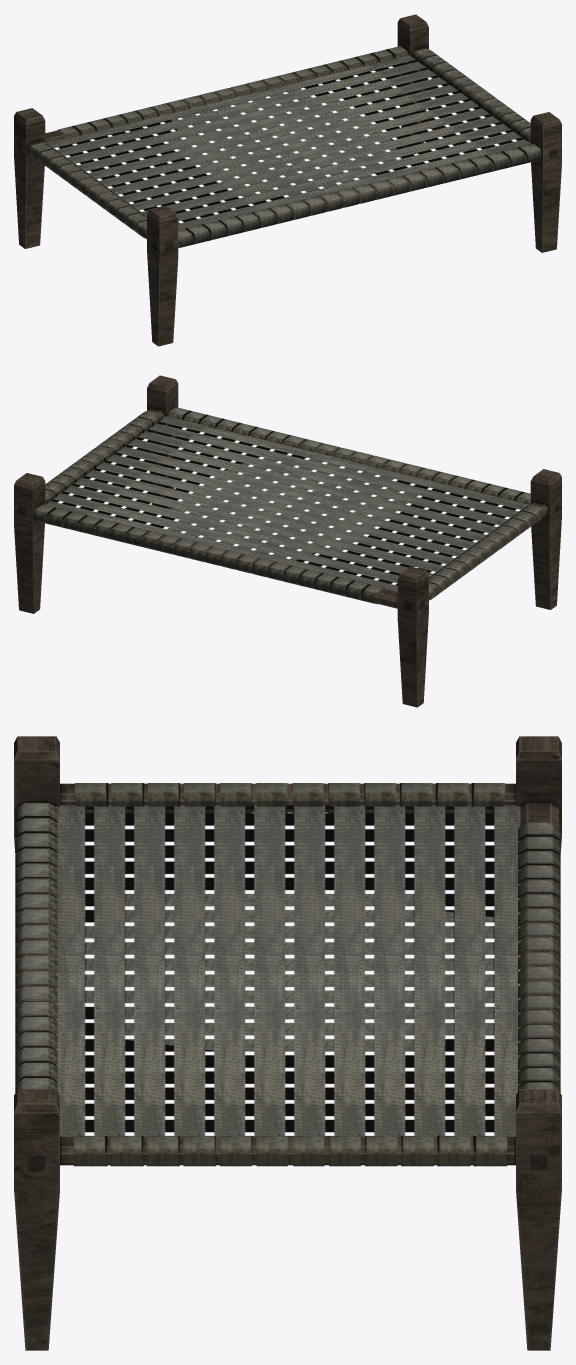
Rendered from the_indian_charpai__khat_bed_29_ph04.glb.
The picture shows the model from 3 angles, top to bottom: view 1: azimuth 30°, elevation 25°; view 2: azimuth 150°, elevation 25°; view 3: azimuth 270°, elevation 25°; orthographic projection. The views are drawn at different scales.
Visible parts, largest first — view 1: Cube.002, Cube.003; view 2: Cube.002, Cube.003; view 3: Cube.002, Cube.003.
Part boxes in pixels (x1,y1,x2,y2): Cube.002: (29,46,541,248); Cube.003: (14,14,561,346); Cube.002: (33,407,545,604); Cube.003: (14,375,561,707); Cube.002: (15,783,560,1166); Cube.003: (14,736,561,1350).
Bounding box in the file's own units: 6.51 × 2.03 × 4.07.
2 materials, 2 textured.
